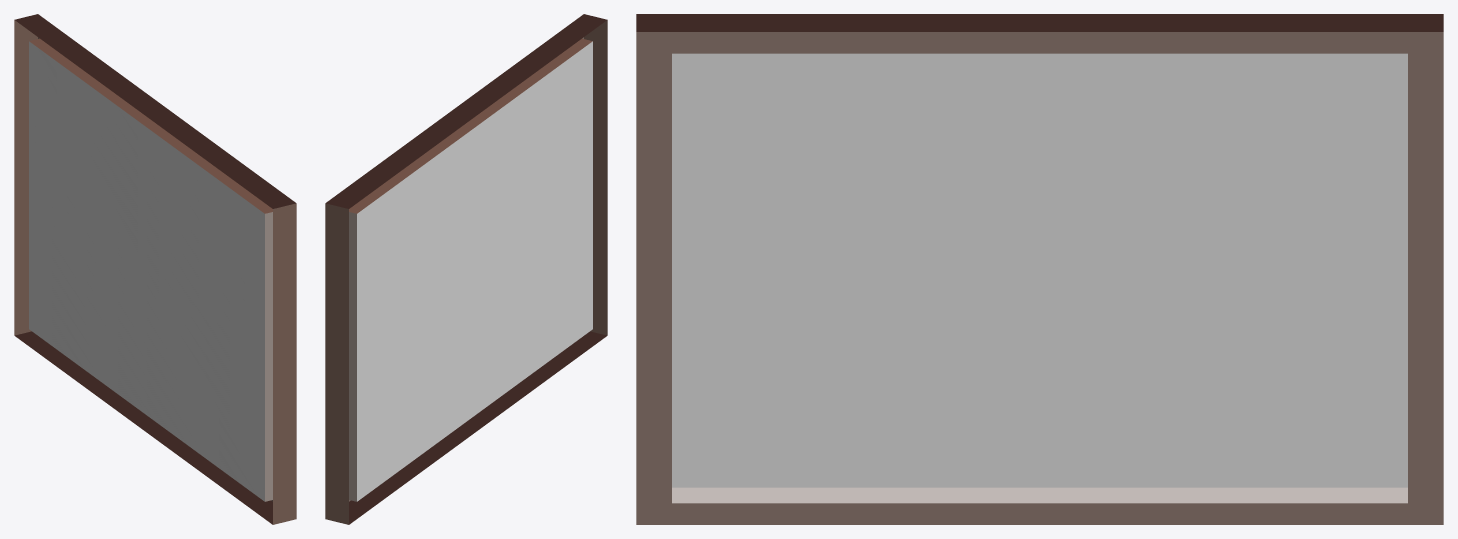
Rendered from M_chushichuang01.FBX.
The picture shows the model from 3 angles, left to right: view 1: azimuth 30°, elevation 25°; view 2: azimuth 150°, elevation 25°; view 3: azimuth 270°, elevation 25°; orthographic projection. The views are drawn at different scales.
Parts seen in each view (by area): view 1: M_chushichuang01_02, M_chushichuang01_01; view 2: M_chushichuang01_02, M_chushichuang01_01; view 3: M_chushichuang01_02, M_chushichuang01_01.
Boxes of the visible parts, <box> form: M_chushichuang01_02: <box>29,41,264,501</box>; M_chushichuang01_01: <box>14,14,296,524</box>; M_chushichuang01_02: <box>357,41,592,501</box>; M_chushichuang01_01: <box>325,14,607,524</box>; M_chushichuang01_02: <box>672,53,1407,487</box>; M_chushichuang01_01: <box>636,14,1443,524</box>.
Bounding box in the file's own units: 0.2359 × 3 × 4.45.
